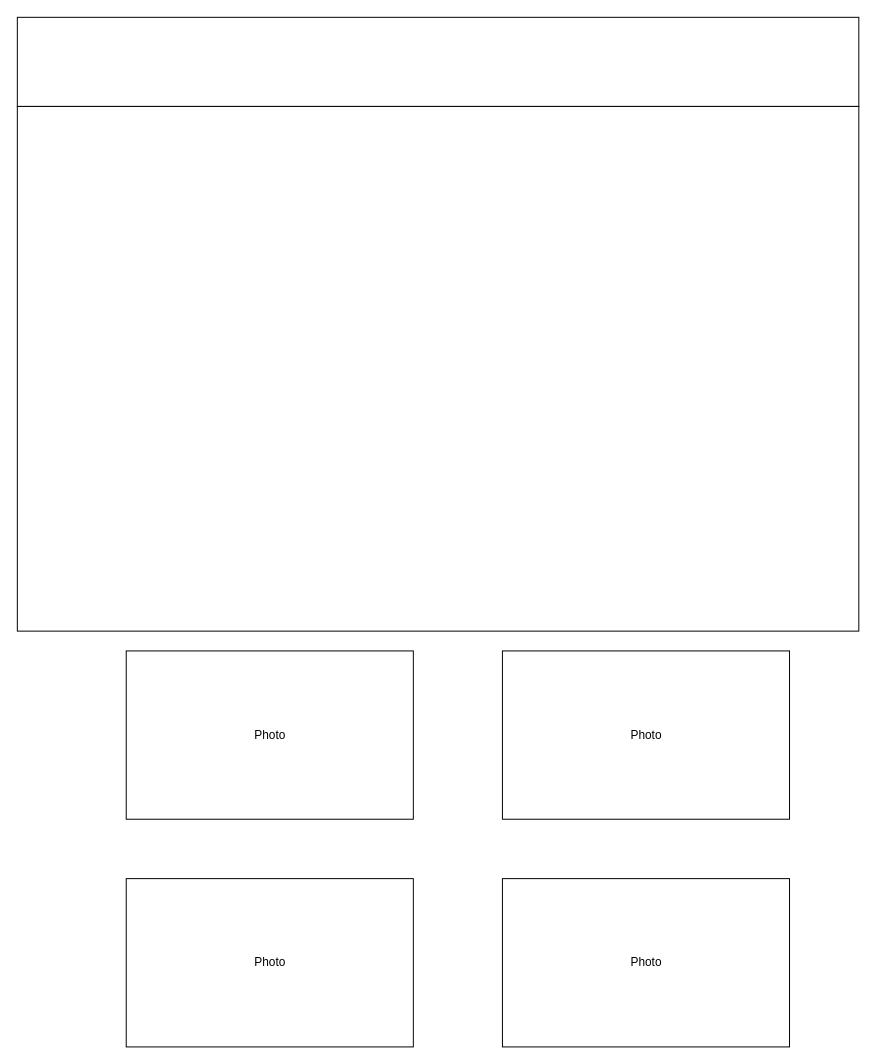
Image size: 876x1064. Some labels were removed from this diagram. Here are the shapes that lost their labels. From the top down, the box of each, then its label:
(16, 16, 859, 106): Videography | Photography | About Me | Login | Register
(16, 105, 859, 631): Main Video background
